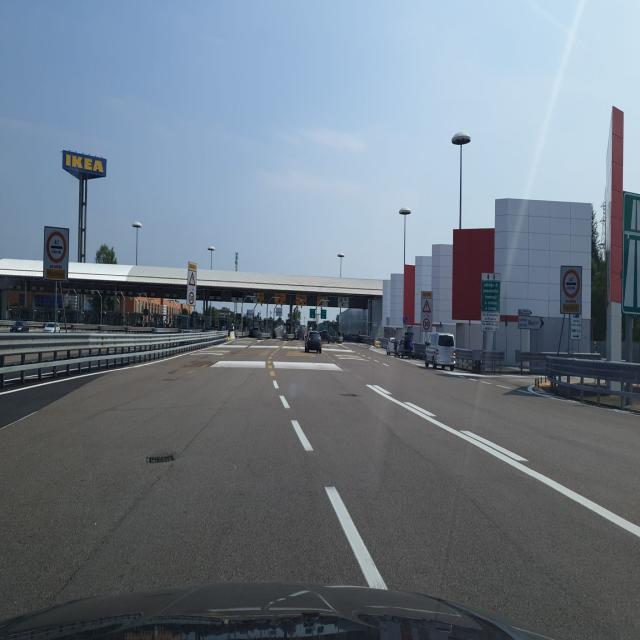forb_stopping: (402, 315, 408, 326)
